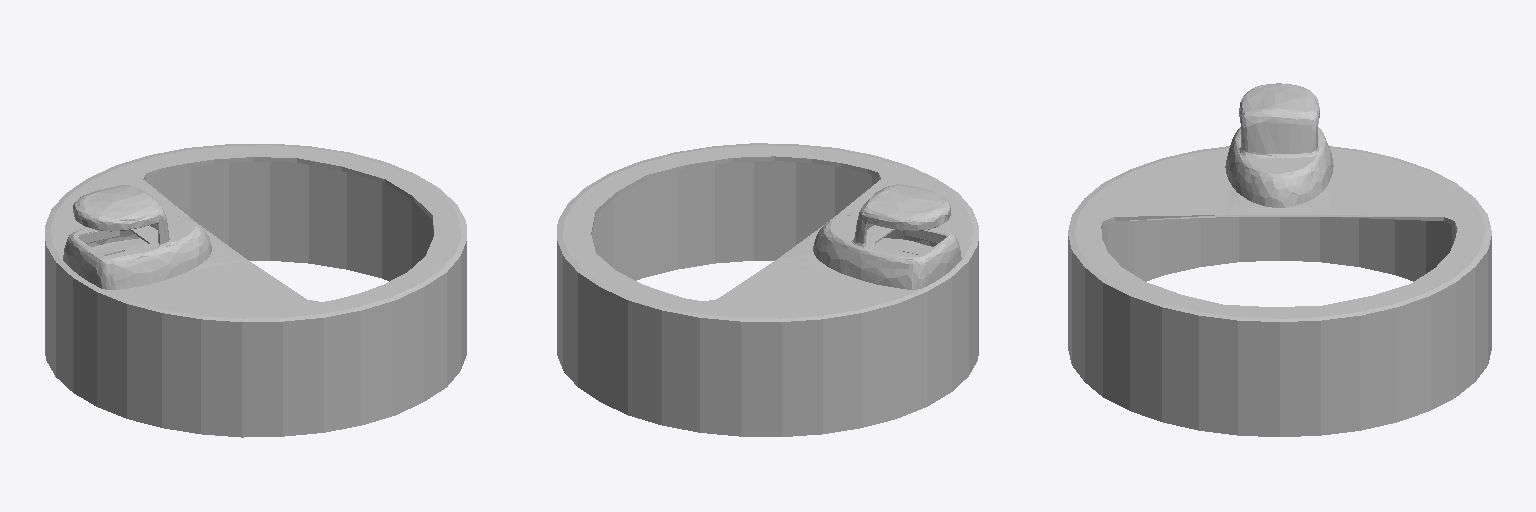
File: base_light.obj
3 views of the same model, side by side, from view 1: azimuth 30°, elevation 25°; view 2: azimuth 150°, elevation 25°; view 3: azimuth 270°, elevation 25° (orthographic).
Bounding box in the file's own units: 0.43 × 0.206 × 0.431.